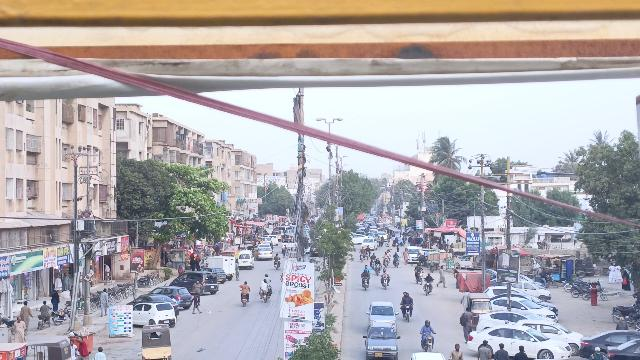Bike: (420, 333, 436, 354), (400, 302, 415, 323), (422, 279, 434, 296), (260, 290, 272, 304), (240, 293, 251, 307), (380, 274, 390, 289), (361, 276, 370, 290)
Car: (469, 325, 570, 358), (362, 321, 400, 360), (132, 301, 175, 327), (173, 271, 220, 294), (365, 300, 398, 328), (152, 284, 191, 307)
Person: (19, 299, 34, 330), (476, 337, 493, 360), (76, 336, 90, 360), (14, 314, 25, 342), (512, 343, 530, 360), (494, 341, 510, 360), (448, 341, 464, 360), (420, 316, 434, 335), (192, 291, 202, 314), (93, 345, 107, 360), (69, 339, 79, 360), (239, 280, 251, 293), (259, 279, 272, 291), (193, 280, 202, 294), (361, 268, 371, 278), (380, 268, 390, 278), (424, 272, 434, 282)
Rickshaw: (139, 323, 176, 360)
Truck: (209, 255, 236, 277)
